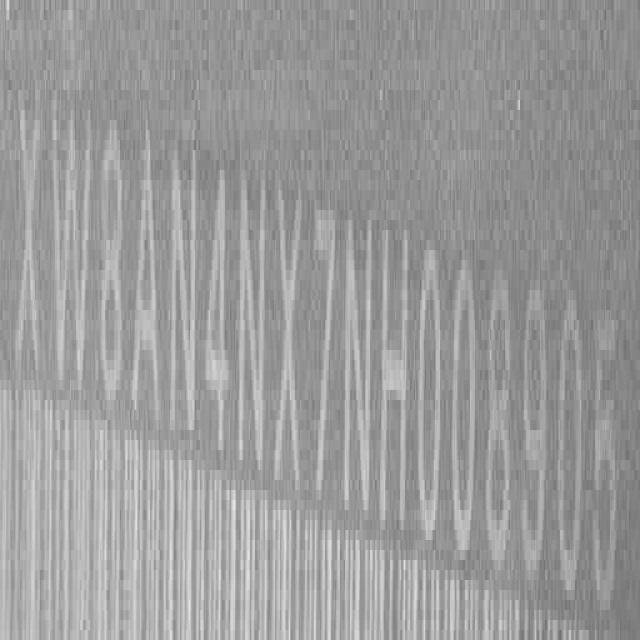0: (416, 235, 444, 550), (556, 297, 584, 603), (452, 258, 480, 563)
4: (206, 157, 231, 466)
5: (595, 308, 621, 611)
6: (486, 271, 516, 574)
7: (311, 185, 336, 508)
8: (98, 123, 126, 416)
9: (523, 285, 549, 590)
A: (132, 130, 162, 433)
H: (379, 219, 408, 535)
N: (343, 209, 377, 522), (237, 160, 269, 482), (171, 142, 202, 444)
W: (48, 102, 90, 408)
X: (277, 176, 305, 498), (15, 94, 44, 395)
